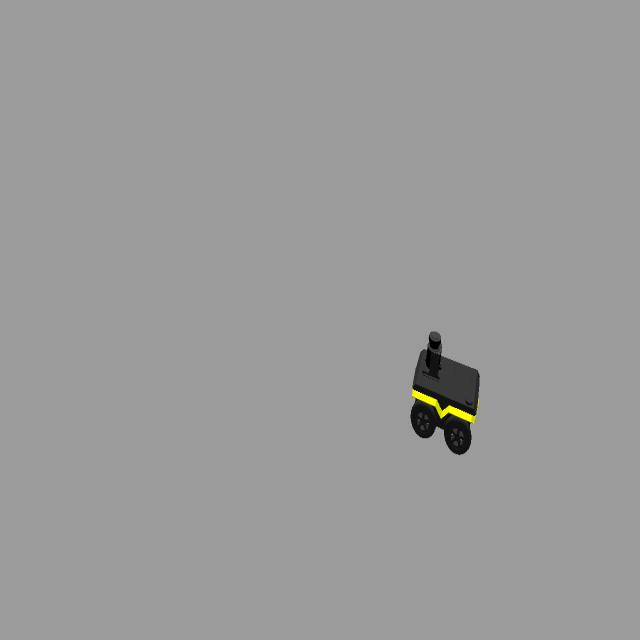jackal: (411, 330, 481, 457)
